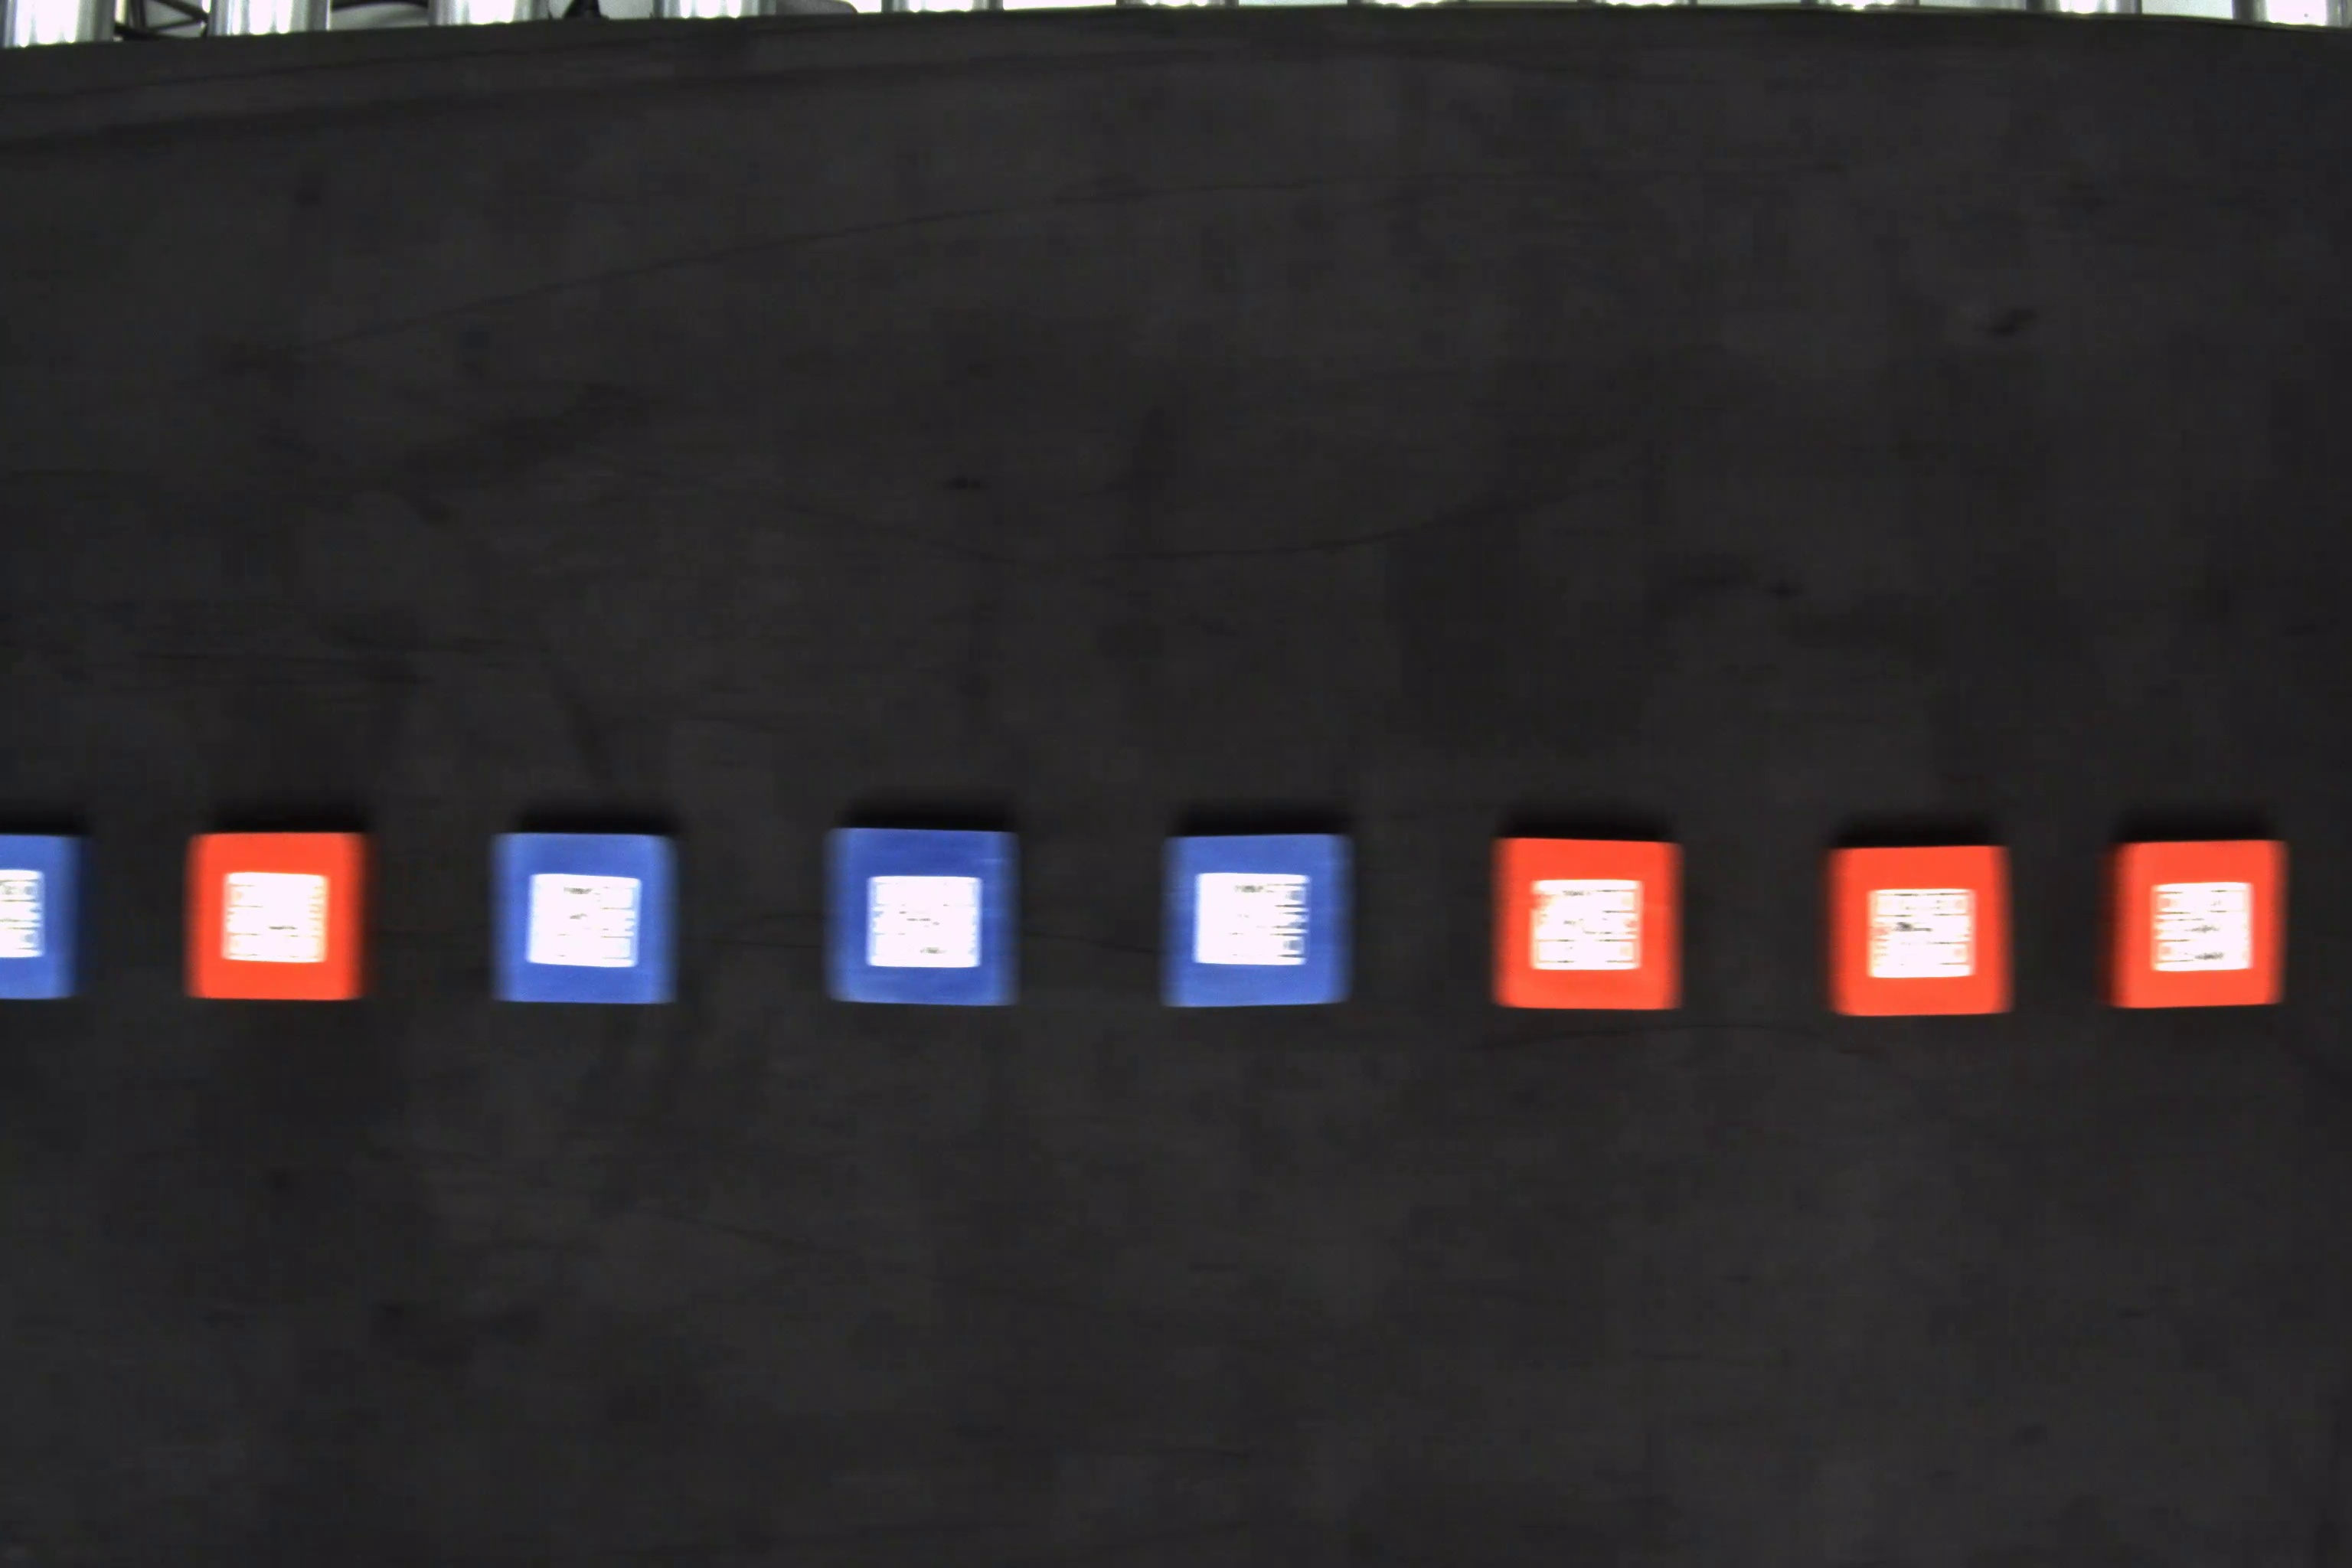wood: (817, 826, 1024, 1003), (1157, 835, 1360, 1011), (1489, 833, 1687, 1011), (1818, 845, 2016, 1022), (493, 831, 679, 1013), (187, 833, 380, 1003), (2102, 843, 2284, 1006), (2, 826, 84, 1004)
